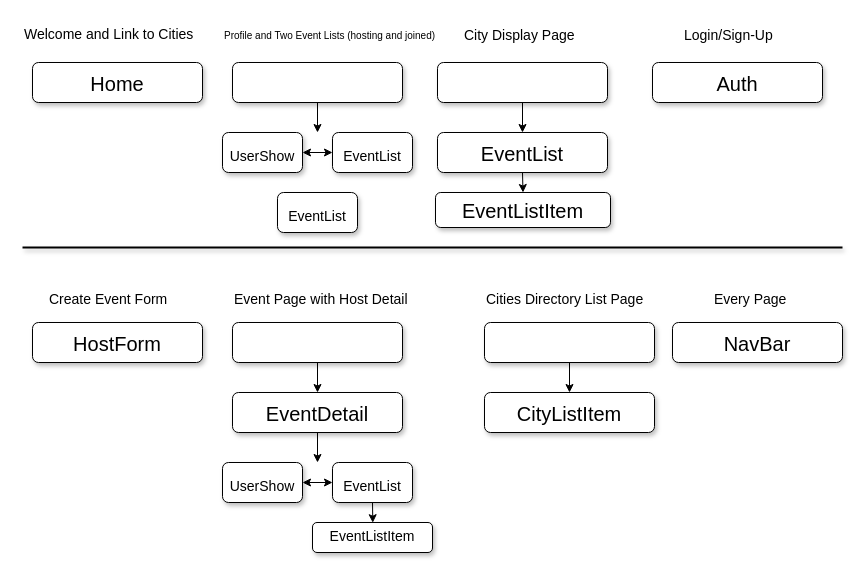
The diagram is 866 pixels wide and 577 high, and some of its shapes have lost their labels. Each missing label, with the centre of its shape:
"City" belongs at point 523,84.
"CityList" belongs at point 570,344.
"Dashboard" belongs at point 318,84.
"EventShow" belongs at point 318,344.
